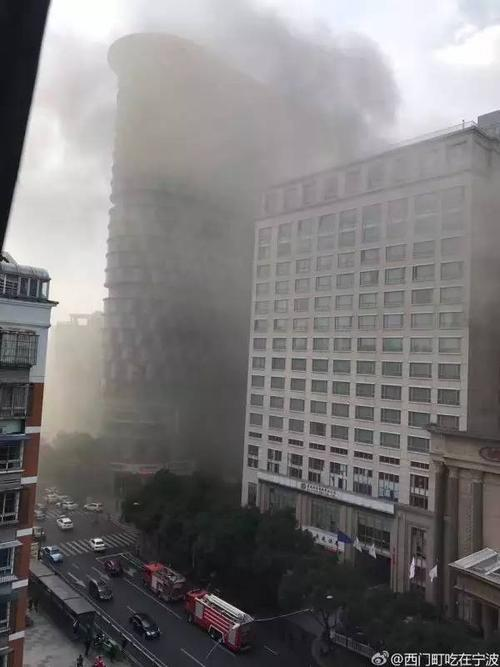smoke: (67, 41, 409, 464)
